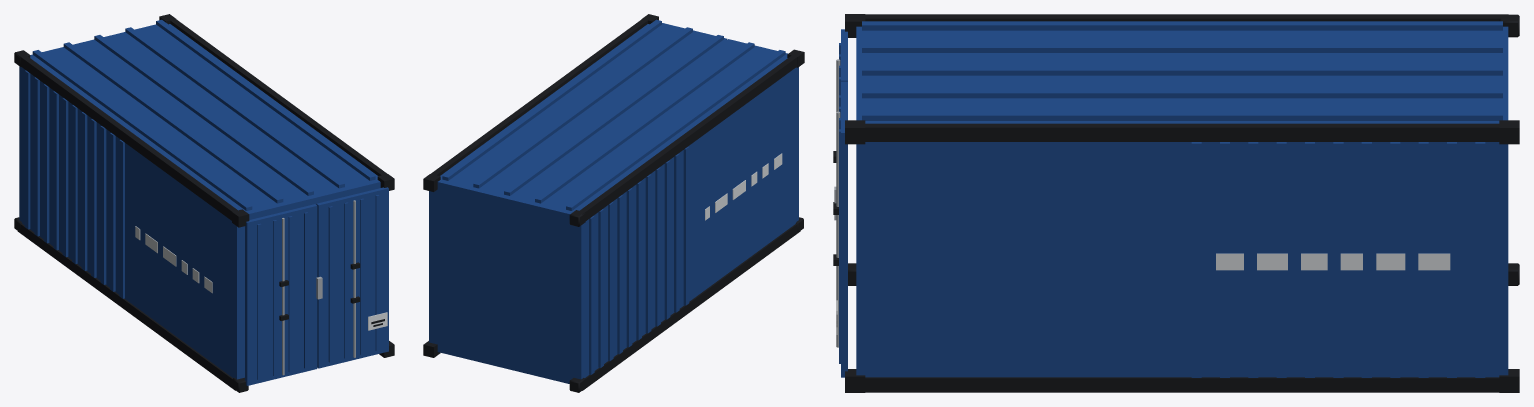
File: crate_iso_container_blue.glb
3 views of the same model, side by side, from view 1: azimuth 30°, elevation 25°; view 2: azimuth 150°, elevation 25°; view 3: azimuth 270°, elevation 25° (orthographic). The views are drawn at different scales.
Parts seen in each view (by area): view 1: crate_iso_container_blue; view 2: crate_iso_container_blue; view 3: crate_iso_container_blue.
Boxes of the visible parts, box(x1,y1,x2,y2) form: crate_iso_container_blue: box(14, 14, 394, 392); crate_iso_container_blue: box(423, 14, 804, 392); crate_iso_container_blue: box(833, 14, 1519, 392).
Size of the model in its own units: 2.47 by 2.62 by 6.11.
